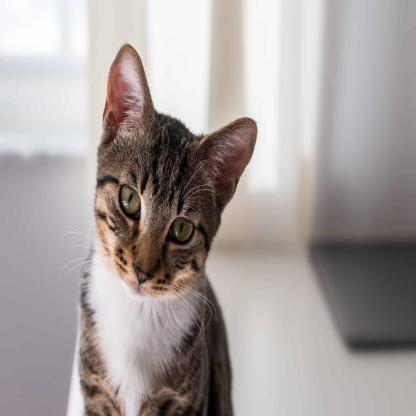cat: (82, 41, 232, 416)
